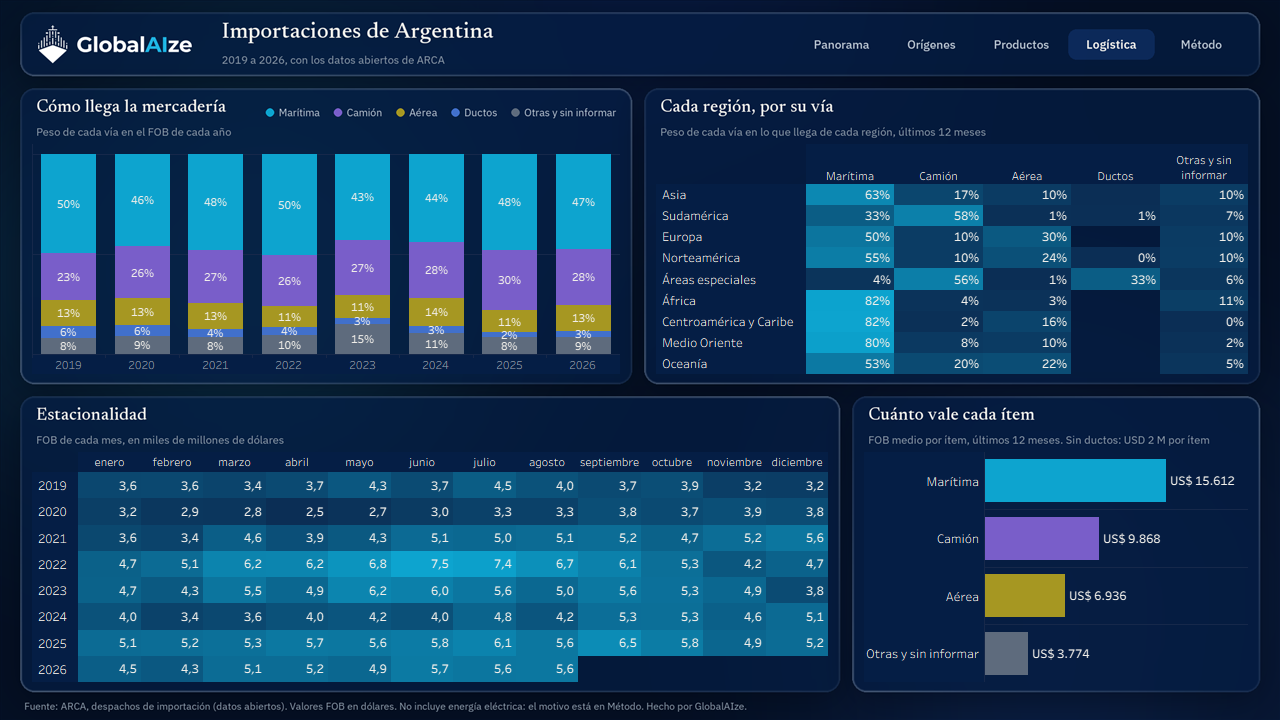

The dashboard page shown, as its layout file describes it:
{"tool":"tableau","page":{"name":"Logística","canvas":[1280,720],"ordinal":3},"visuals":[{"type":"image","param":"fondos/logistica.png","box":[0,0,1280,720]},{"type":"dashboard-object","box":[798,29,86,30]},{"type":"dashboard-object","box":[888,29,86,30]},{"type":"dashboard-object","box":[978,29,86,30]},{"type":"dashboard-object","box":[1158,29,86,30]},{"type":"worksheet","title":"Vías por año","mark":"Bar","rows":["c_peso_anio"],"cols":["Fecha"],"box":[32,144,588,230]},{"type":"worksheet","title":"Región por vía","mark":"Square","rows":["Región"],"cols":["Vía (grupo)"],"box":[656,144,592,230]},{"type":"worksheet","title":"Calendario","mark":"Square","rows":["Fecha"],"cols":["Fecha"],"box":[32,452,796,230]},{"type":"worksheet","title":"Valor por ítem","mark":"Bar","rows":["Vía (grupo)"],"cols":["c_por_item"],"box":[864,452,384,230]}]}

Visuals, with their boxes in screenshot pixels (x1, y1, x2, y2), scaled from the page's 1280x720 canvas onto the 1280x720 screenshot:
image: left=0, top=0, right=1279, bottom=719
dashboard-object: left=798, top=29, right=884, bottom=59
dashboard-object: left=888, top=29, right=974, bottom=59
dashboard-object: left=978, top=29, right=1064, bottom=59
dashboard-object: left=1158, top=29, right=1244, bottom=59
"Vías por año" worksheet (Bar marks): left=32, top=144, right=620, bottom=374
"Región por vía" worksheet (Square marks): left=656, top=144, right=1248, bottom=374
"Calendario" worksheet (Square marks): left=32, top=452, right=828, bottom=682
"Valor por ítem" worksheet (Bar marks): left=864, top=452, right=1248, bottom=682
